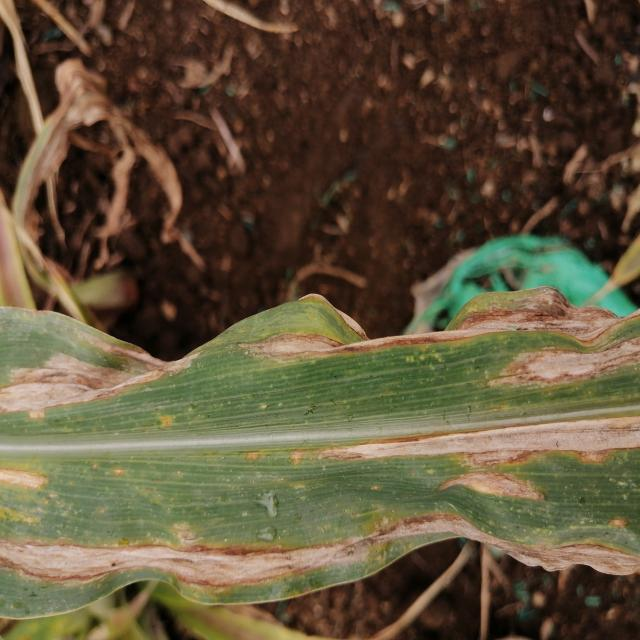Corn_Leaf_Blight: (0, 308, 640, 608)
